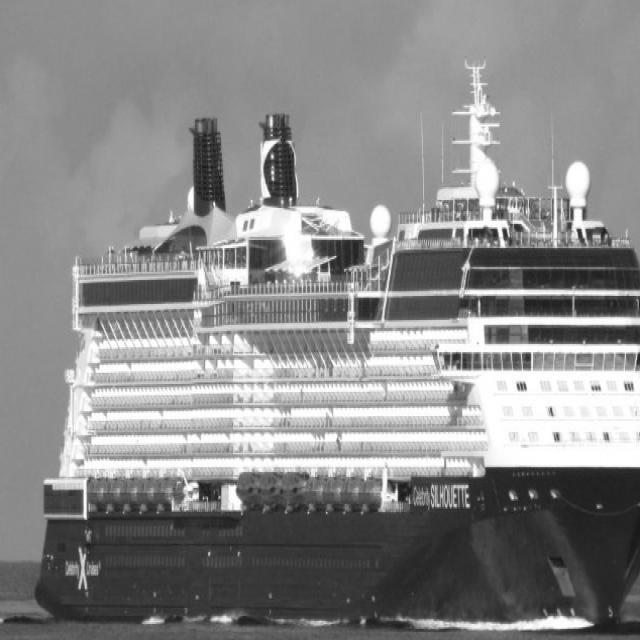cruises: (33, 58, 640, 640)
